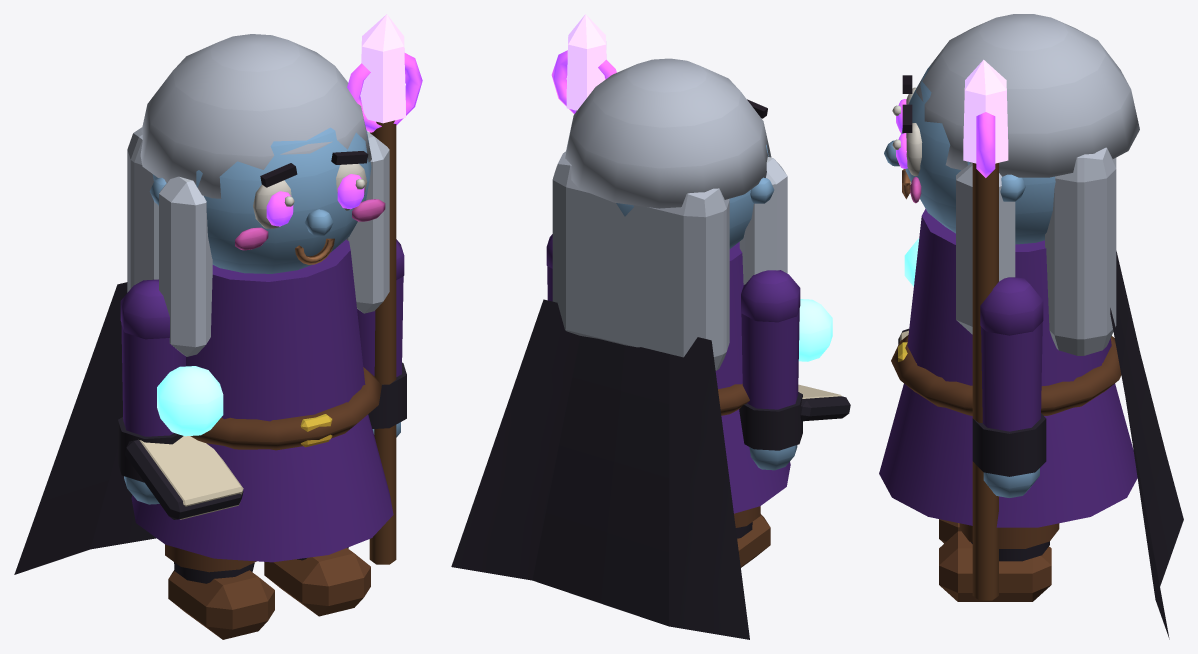
Rendered from hero_kael.glb.
3 renders of one model, left to right at view 1: azimuth 30°, elevation 25°; view 2: azimuth 150°, elevation 25°; view 3: azimuth 270°, elevation 25°, orthographic. The views are drawn at different scales.
Visible parts, largest first — view 1: body_t0_palette, arml_t0_palette, armr_t0_palette, legl_t0_palette, legr_t0_palette, armr_t0_crystal_violet, arml_t0_rune, armr_t0_shadow_glow, body_t0_shadow_glow; view 2: body_t0_palette, arml_t0_palette, armr_t0_crystal_violet, arml_t0_rune, legl_t0_palette, armr_t0_shadow_glow; view 3: body_t0_palette, armr_t0_palette, legr_t0_palette, armr_t0_crystal_violet, armr_t0_shadow_glow, body_t0_shadow_glow, arml_t0_rune.
Boxes of the visible parts, x1=… form: body_t0_palette: x1=14, y1=34, x2=393, y2=574; arml_t0_palette: x1=118, y1=279, x2=243, y2=519; armr_t0_palette: x1=357, y1=120, x2=406, y2=564; legl_t0_palette: x1=165, y1=544, x2=274, y2=639; legr_t0_palette: x1=264, y1=547, x2=370, y2=616; armr_t0_crystal_violet: x1=360, y1=14, x2=405, y2=123; arml_t0_rune: x1=157, y1=366, x2=223, y2=436; armr_t0_shadow_glow: x1=347, y1=53, x2=422, y2=132; body_t0_shadow_glow: x1=266, y1=174, x2=364, y2=226; body_t0_palette: x1=451, y1=58, x2=790, y2=639; arml_t0_palette: x1=739, y1=270, x2=850, y2=470; armr_t0_crystal_violet: x1=566, y1=14, x2=606, y2=110; arml_t0_rune: x1=798, y1=299, x2=832, y2=361; legl_t0_palette: x1=734, y1=506, x2=770, y2=567; armr_t0_shadow_glow: x1=551, y1=50, x2=616, y2=113; body_t0_palette: x1=879, y1=14, x2=1183, y2=639; armr_t0_palette: x1=972, y1=163, x2=1046, y2=600; legr_t0_palette: x1=939, y1=523, x2=1059, y2=601; armr_t0_crystal_violet: x1=963, y1=59, x2=1008, y2=163; armr_t0_shadow_glow: x1=976, y1=112, x2=995, y2=177; body_t0_shadow_glow: x1=896, y1=99, x2=907, y2=168; arml_t0_rune: x1=904, y1=238, x2=919, y2=286.
Bounding box in the file's own units: 0.32 × 0.525 × 0.257.
